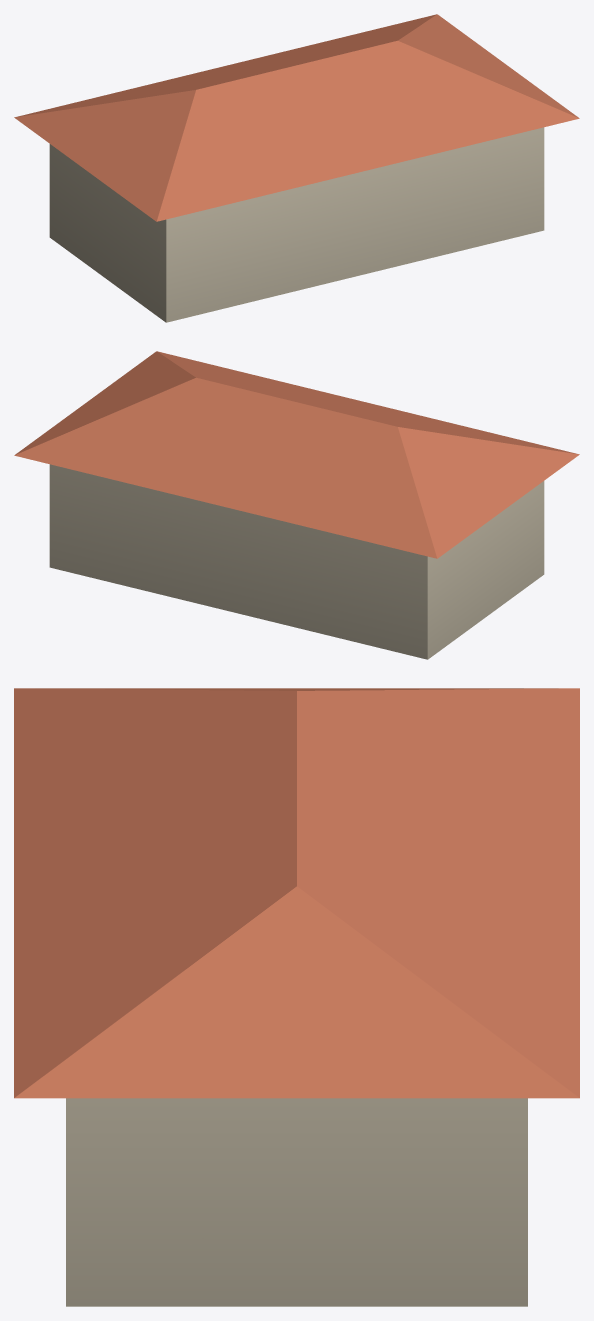
Rendered from estate_garage.glb.
The picture shows the model from 3 angles, top to bottom: view 1: azimuth 30°, elevation 25°; view 2: azimuth 150°, elevation 25°; view 3: azimuth 270°, elevation 25°; orthographic projection. The views are drawn at different scales.
Visible parts, largest first — view 1: estate_garage; view 2: estate_garage; view 3: estate_garage.
Boxes of the visible parts, left/top/right/bottom form: estate_garage: left=14, top=14, right=579, bottom=322; estate_garage: left=14, top=351, right=579, bottom=659; estate_garage: left=14, top=688, right=579, bottom=1306.
Size of the model in its own units: 16.8 by 6.4 by 9.8.
